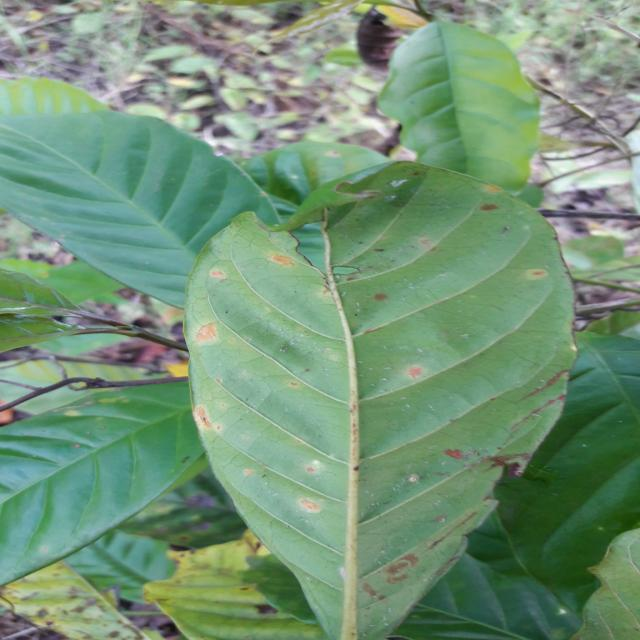Enfermedad-Roya: (182, 166, 576, 640)
